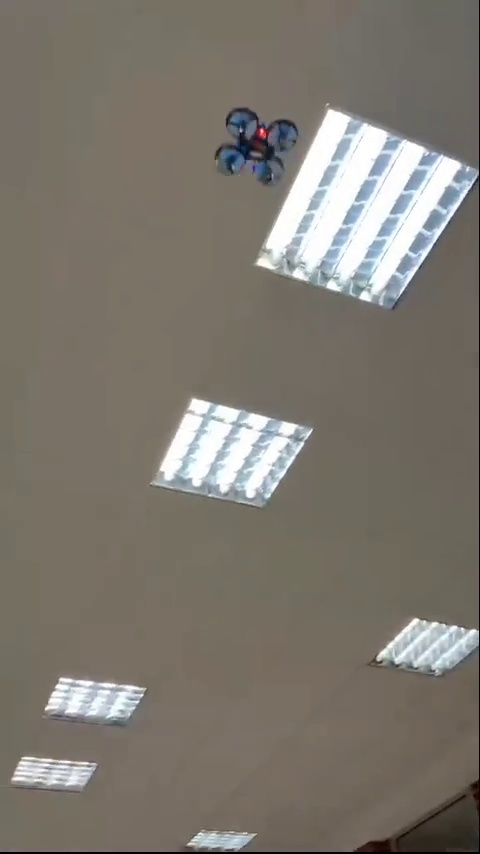drone: (213, 110, 292, 184)
